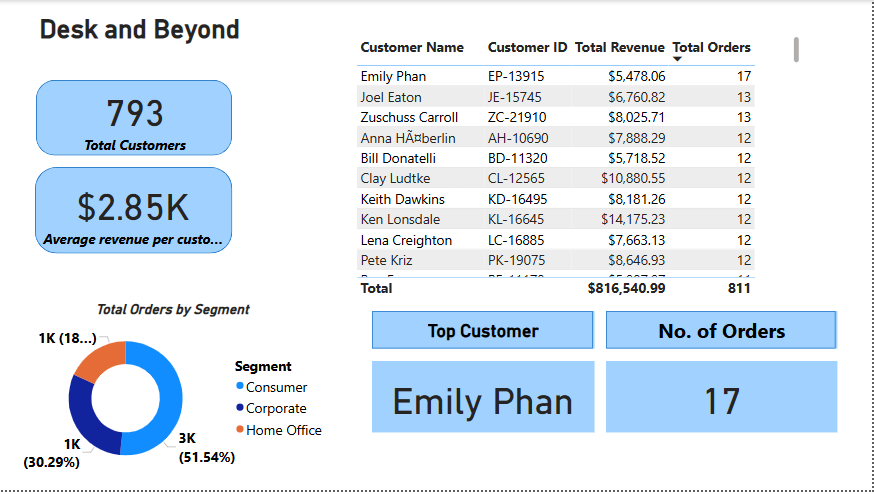

What the dashboard file says about the page in this screenshot:
{"tool":"powerbi","page":{"name":"Customers","canvas":[1280,720],"ordinal":2},"visuals":[{"type":"shape","box":[53.6,118,287.8,110.8],"z":0},{"type":"card","fields":{"Values":["Measures (2).Total Customers"]},"box":[107.3,118,182.3,110.8],"z":1000},{"type":"card","fields":{"Values":["Customers.Customer Name"]},"box":[547,530.9,327.2,105.5],"z":2000},{"type":"card","fields":{"Values":["Measures (2).Total Orders"]},"box":[890.3,530.9,339.7,105.5],"z":3000},{"type":"shape","box":[51.8,244.9,289.6,126.9],"z":4000},{"type":"card","fields":{"Values":["Measures (2).Average revenue per customer"]},"box":[51.8,244.9,287.8,130.5],"z":5000},{"type":"donutChart","fields":{"Category":["Sales.Segment"],"Y":["Measures (2).Total Orders"]},"box":[18.6,441.6,467.7,262.7],"z":6000},{"type":"tableEx","fields":{"Values":["Customers.Customer Name","Customers.Customer ID","Measures (2).Total Revenue","Measures (2).Total Orders"]},"box":[518,48.4,661.4,393.1],"z":7000},{"type":"shape","box":[547,457.7,327.2,55.4],"z":8000},{"type":"shape","box":[890.3,457.7,339.7,55.4],"z":9000},{"type":"textbox","box":[53.6,14.3,312.8,66.1],"z":10000}]}

Visuals, with their boxes in screenshot pixels (x1, y1, x2, y2), scaled from the page's 1280x720 canvas onto the 874x494 screenshot:
shape: <bbox>37, 81, 233, 157</bbox>
card - Measures (2).Total Customers: <bbox>73, 81, 198, 157</bbox>
card - Customers.Customer Name: <bbox>373, 364, 597, 437</bbox>
card - Measures (2).Total Orders: <bbox>608, 364, 840, 437</bbox>
shape: <bbox>35, 168, 233, 255</bbox>
card - Measures (2).Average revenue per customer: <bbox>35, 168, 232, 258</bbox>
donutChart - Sales.Segment x Measures (2).Total Orders: <bbox>13, 303, 332, 483</bbox>
tableEx - Customers.Customer Name x Customers.Customer ID: <bbox>354, 33, 805, 303</bbox>
shape: <bbox>373, 314, 597, 352</bbox>
shape: <bbox>608, 314, 840, 352</bbox>
textbox: <bbox>37, 10, 250, 55</bbox>
